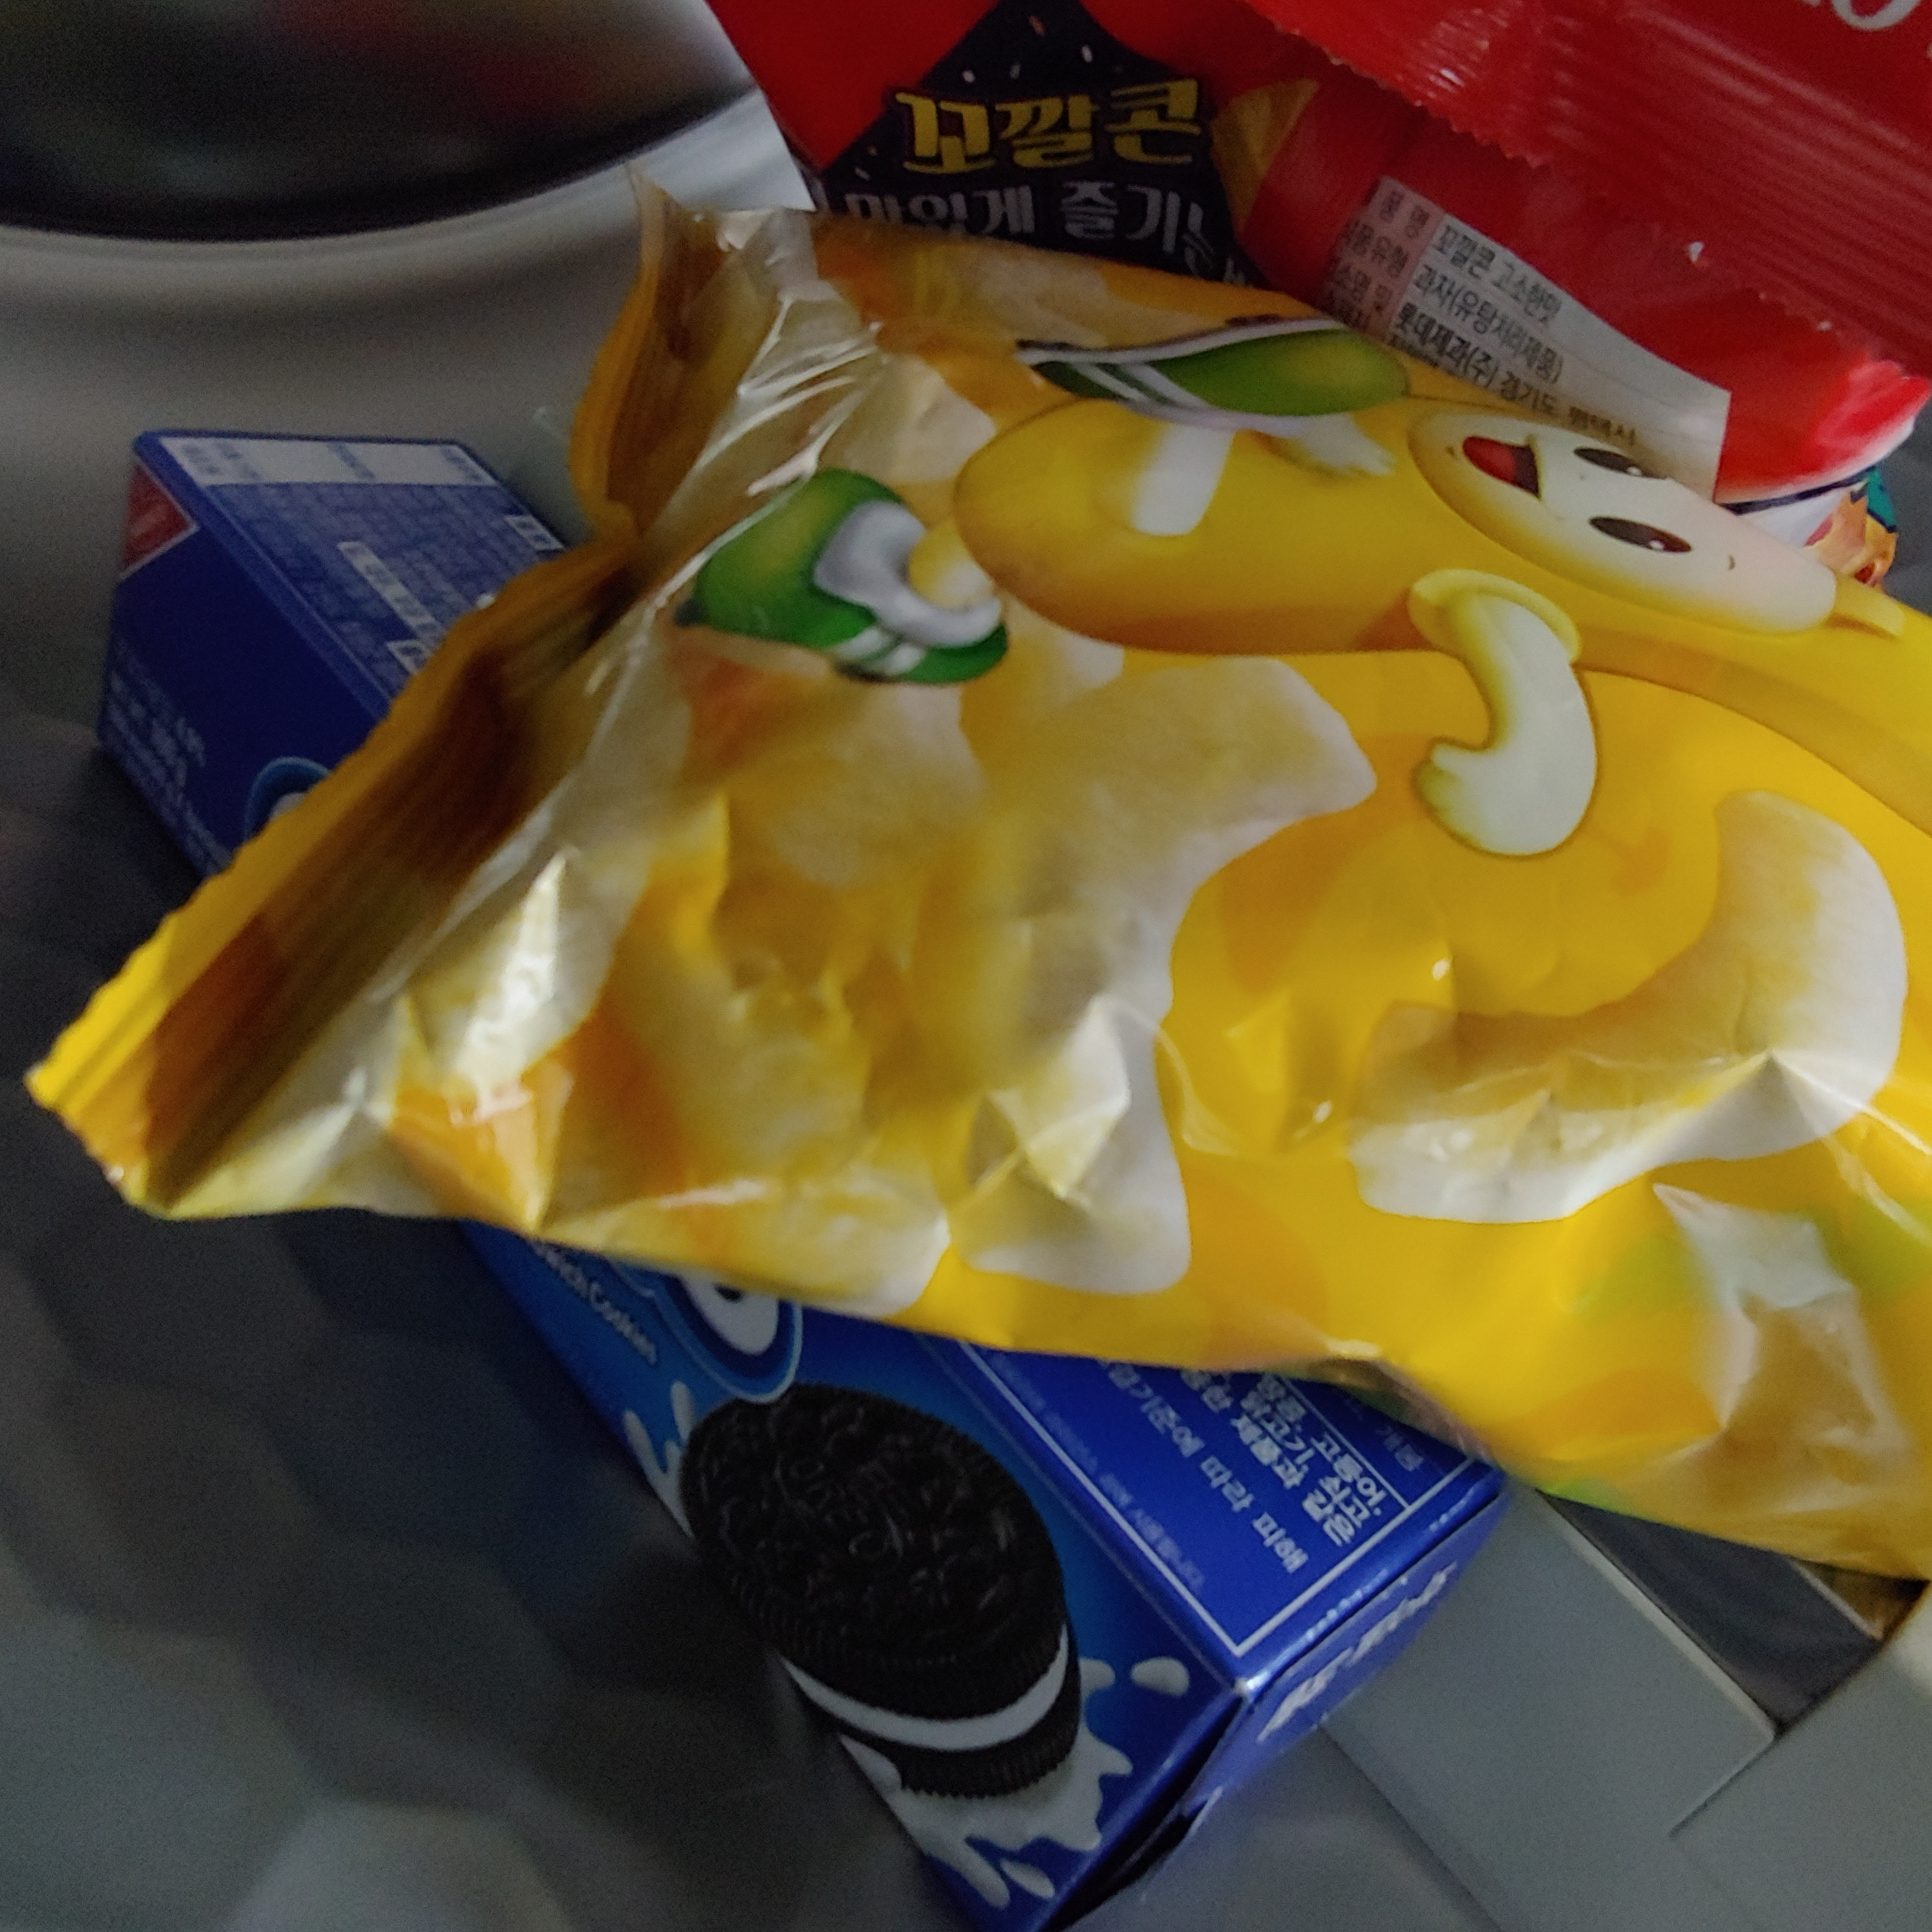banana: (67, 126, 1932, 1640)
ggoggalcon: (669, 2, 1932, 593)
oreo: (391, 1145, 1566, 1932)
